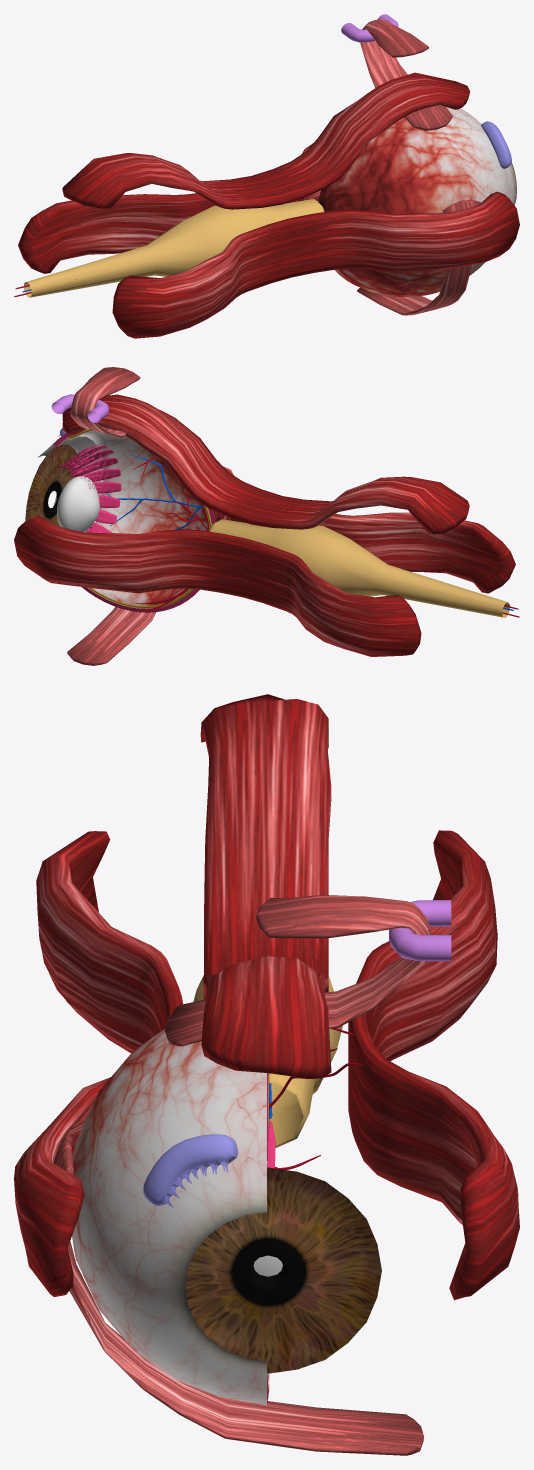
File: Olho.gltf
The picture shows the model from 3 angles, top to bottom: view 1: azimuth 30°, elevation 25°; view 2: azimuth 150°, elevation 25°; view 3: azimuth 270°, elevation 25°; orthographic projection. The views are drawn at different scales.
Parts seen in each view (by area): view 1: Fibra muscular 01.003, cornea, Fibra muscular 01.001, Fibra muscular 01.002, Nervo otico, Fibra muscular 02.001, Fibra muscular 02, Glandula lacrimal, Block; view 2: Fibra muscular 01.002, Fibra muscular 01.001, Nervo otico, Fibra muscular 01.003, Retina, Fibra muscular 02, Corpo ciliar, Iris, Fibra muscular 02.001, Cristalino, Coroide, Block (+1 smaller); view 3: cornea, Fibra muscular 01.001, Fibra muscular 01.002, Iris, Fibra muscular 01.003, Fibra muscular 02, Fibra muscular 02.001, Glandula lacrimal, Nervo otico, Block.
Part boxes in pixels (x1=…): Fibra muscular 01.003: x1=112, y1=191, x2=519, y2=338; cornea: x1=318, y1=107, x2=516, y2=297; Fibra muscular 01.001: x1=62, y1=72, x2=470, y2=209; Fibra muscular 01.002: x1=18, y1=143, x2=320, y2=273; Nervo otico: x1=24, y1=199, x2=324, y2=297; Fibra muscular 02.001: x1=360, y1=19, x2=452, y2=130; Fibra muscular 02: x1=357, y1=199, x2=480, y2=315; Glandula lacrimal: x1=481, y1=121, x2=511, y2=168; Block: x1=341, y1=14, x2=398, y2=42; Fibra muscular 01.002: x1=14, y1=516, x2=421, y2=656; Fibra muscular 01.001: x1=62, y1=394, x2=469, y2=534; Nervo otico: x1=209, y1=519, x2=509, y2=617; Fibra muscular 01.003: x1=223, y1=466, x2=515, y2=593; Retina: x1=68, y1=429, x2=212, y2=608; Fibra muscular 02: x1=67, y1=606, x2=156, y2=665; Corpo ciliar: x1=55, y1=444, x2=121, y2=532; Iris: x1=25, y1=444, x2=81, y2=526; Fibra muscular 02.001: x1=70, y1=367, x2=140, y2=436; Cristalino: x1=57, y1=476, x2=99, y2=532; Coroide: x1=53, y1=433, x2=215, y2=612; Block: x1=51, y1=394, x2=108, y2=422; cornea: x1=72, y1=1029, x2=266, y2=1405; Fibra muscular 01.001: x1=200, y1=694, x2=331, y2=1078; Fibra muscular 01.002: x1=348, y1=830, x2=519, y2=1300; Iris: x1=185, y1=1167, x2=381, y2=1373; Fibra muscular 01.003: x1=14, y1=831, x2=182, y2=1296; Fibra muscular 02: x1=53, y1=1134, x2=423, y2=1455; Fibra muscular 02.001: x1=164, y1=895, x2=430, y2=1046; Glandula lacrimal: x1=143, y1=1134, x2=238, y2=1207; Nervo otico: x1=193, y1=975, x2=342, y2=1148; Block: x1=389, y1=900, x2=451, y2=961.
Size of the model in its own units: 5.44 by 2.83 by 2.4.
Materials: 14 (6 with a texture image).
